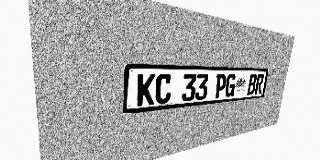3: (181, 74, 197, 102), (195, 74, 209, 100)
B: (247, 74, 257, 95)
C: (155, 74, 172, 104)
G: (224, 74, 237, 97)
K: (137, 74, 156, 106)
P: (214, 74, 227, 98)
R: (254, 74, 264, 94)
